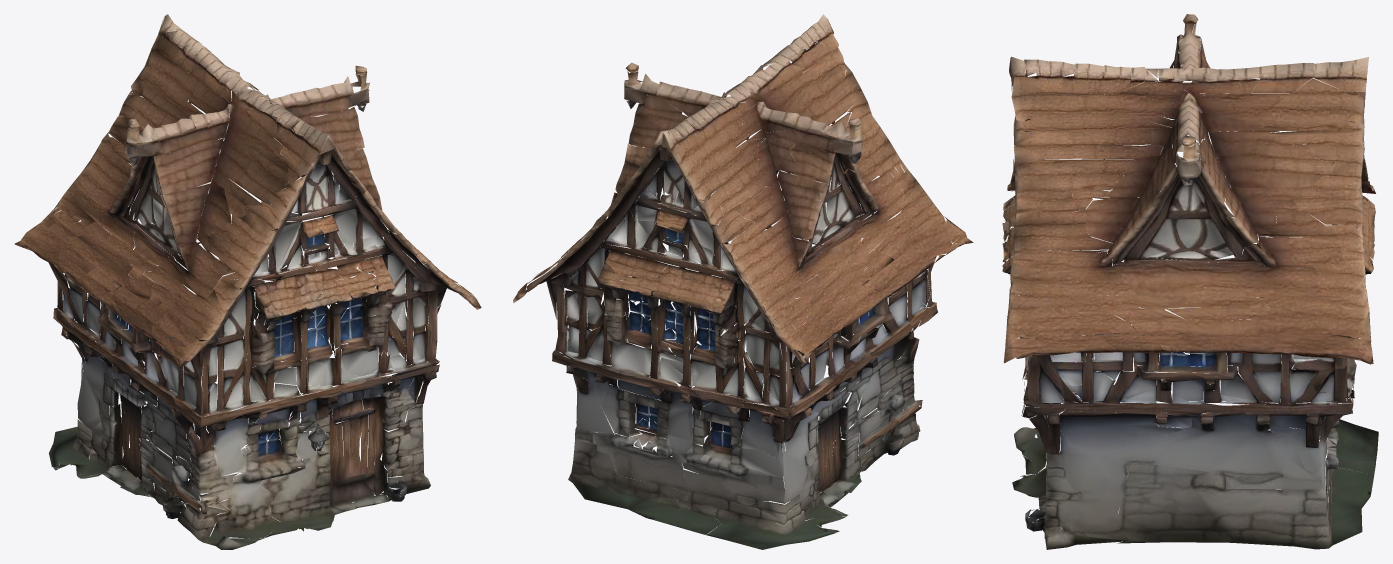
File: casa_tudor.glb
The picture shows the model from 3 angles, left to right: view 1: azimuth 30°, elevation 25°; view 2: azimuth 150°, elevation 25°; view 3: azimuth 270°, elevation 25°; orthographic projection. The views are drawn at different scales.
Visible parts, largest first — view 1: Object_4; view 2: Object_4; view 3: Object_4.
Boxes of the visible parts, bbox=[...] form: Object_4: bbox=[14, 14, 481, 549]; Object_4: bbox=[513, 14, 973, 549]; Object_4: bbox=[1002, 14, 1378, 549].
Size of the model in its own units: 6.42 by 8 by 6.29.
1 material, 1 textured.
